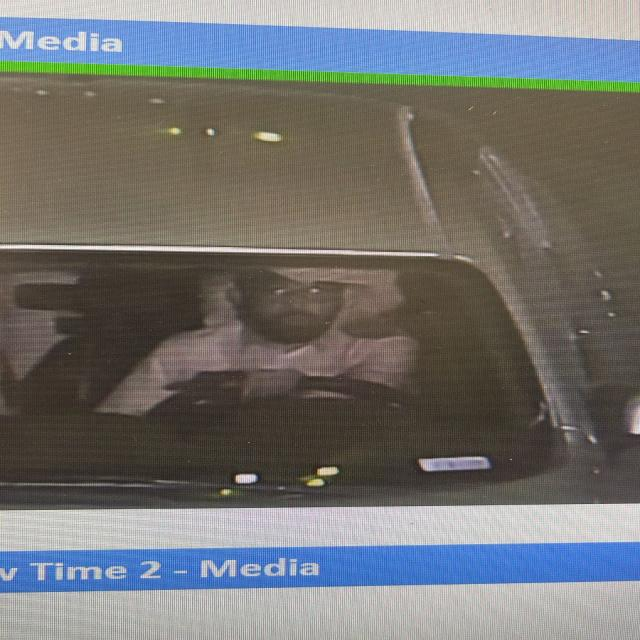person_without_seatbelt: (92, 258, 491, 427)
